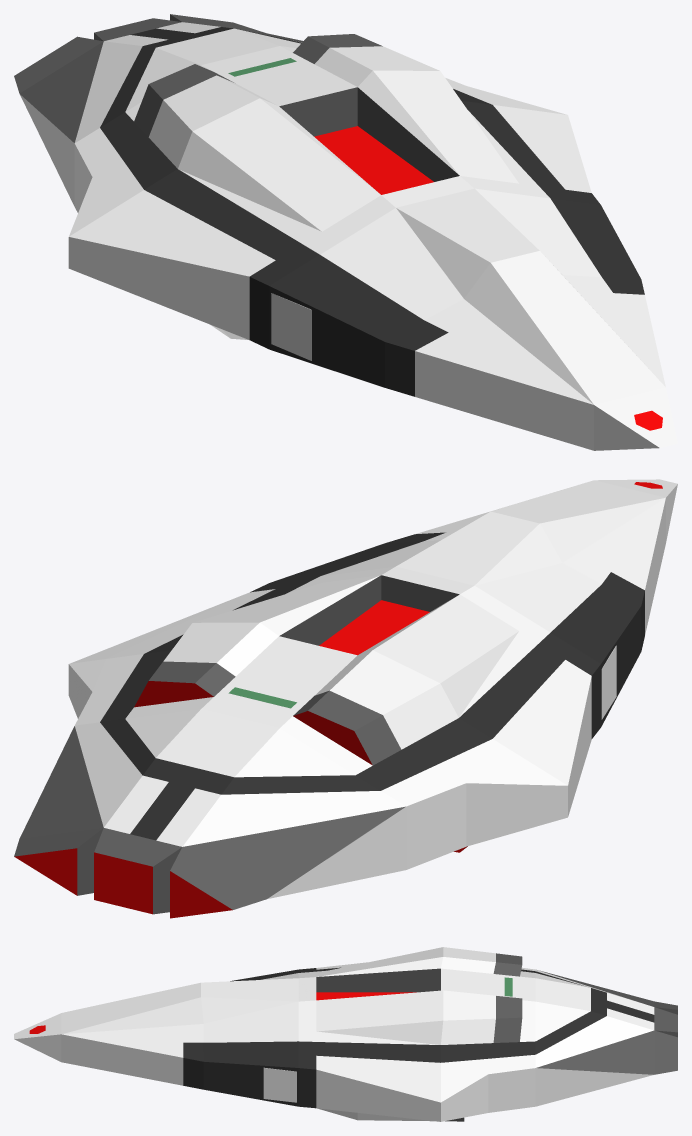
Rendered from tri_foldship.fbx.
The picture shows the model from 3 angles, top to bottom: view 1: azimuth 30°, elevation 25°; view 2: azimuth 150°, elevation 25°; view 3: azimuth 270°, elevation 25°; orthographic projection. The views are drawn at different scales.
Visible parts, largest first — view 1: tri_foldship, banners; view 2: tri_foldship, banners; view 3: tri_foldship, banners.
Boxes of the visible parts, box(x1,y1,x2,y2) form: tri_foldship: box(14, 14, 677, 450); banners: box(228, 58, 311, 360); tri_foldship: box(14, 479, 677, 918); banners: box(228, 645, 616, 719); tri_foldship: box(14, 947, 677, 1121); banners: box(263, 977, 512, 1102).
Size of the model in its own units: 222 by 90.62 by 420.
Materials: 2 (1 with a texture image).
